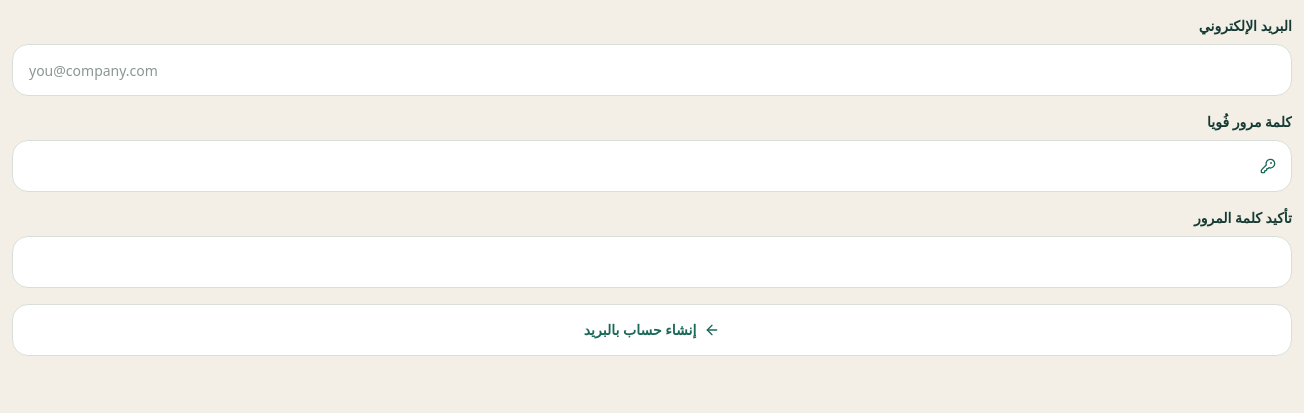
Test: PasswordSignUpForm › shows the confirmation-required state returned by the action
In the field labelled "البريد الإلكتروني": {"x": 652, "y": 70} [12,44,1292,96], type "operator@example.com"
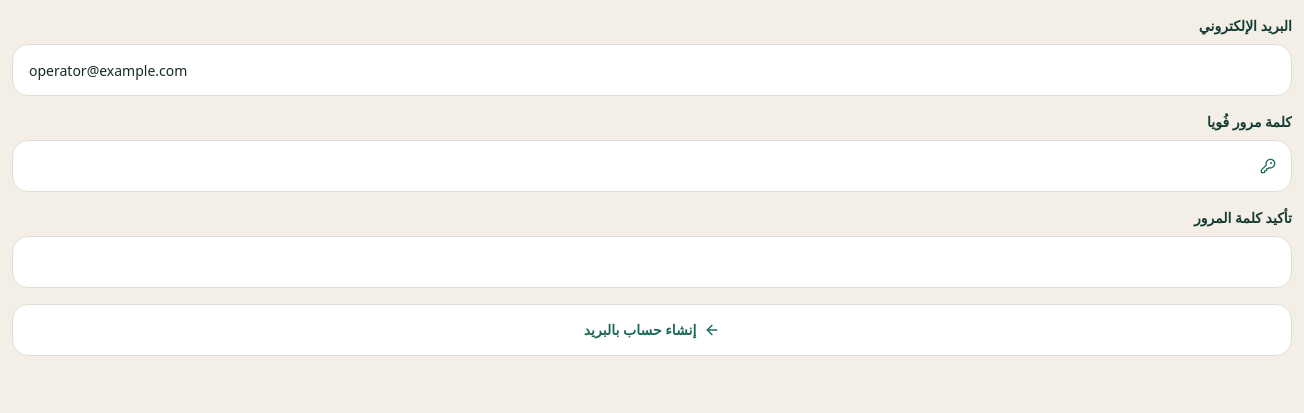
In the password field labelled "كلمة مرور فُويا": {"x": 652, "y": 166} [12,140,1292,192], type "safe-password"
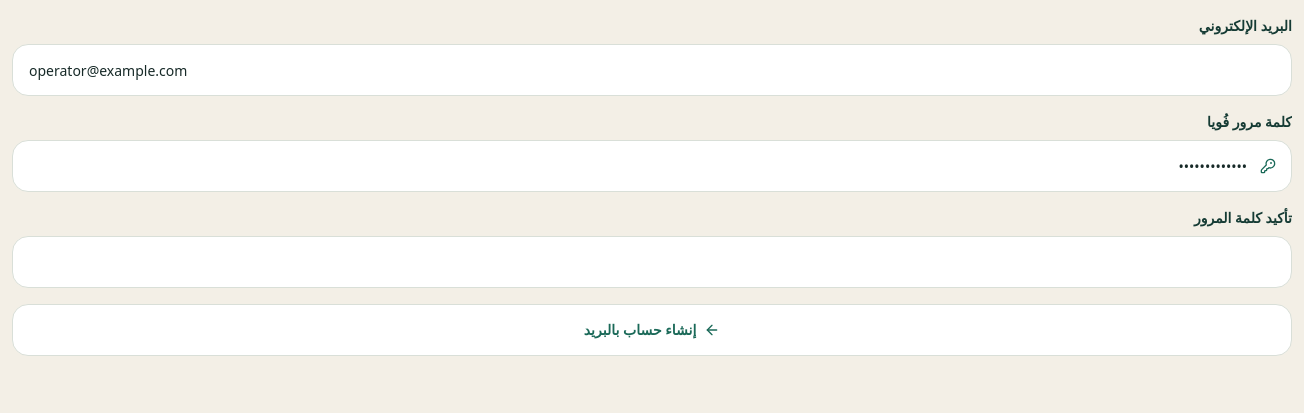
In the password field labelled "تأكيد كلمة المرور": {"x": 652, "y": 262} [12,236,1292,288], type "safe-password"
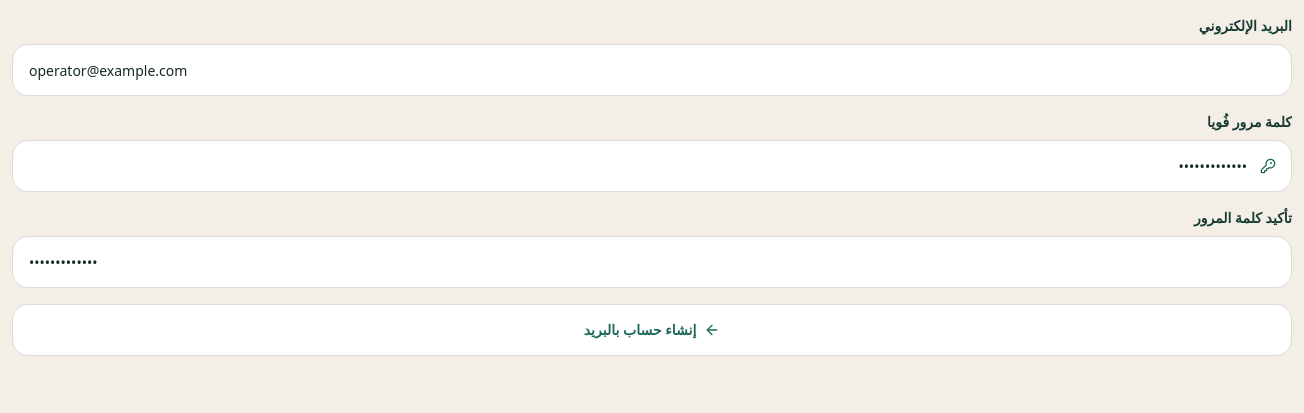
Submit the form "إنشاء حساب بالبريد"
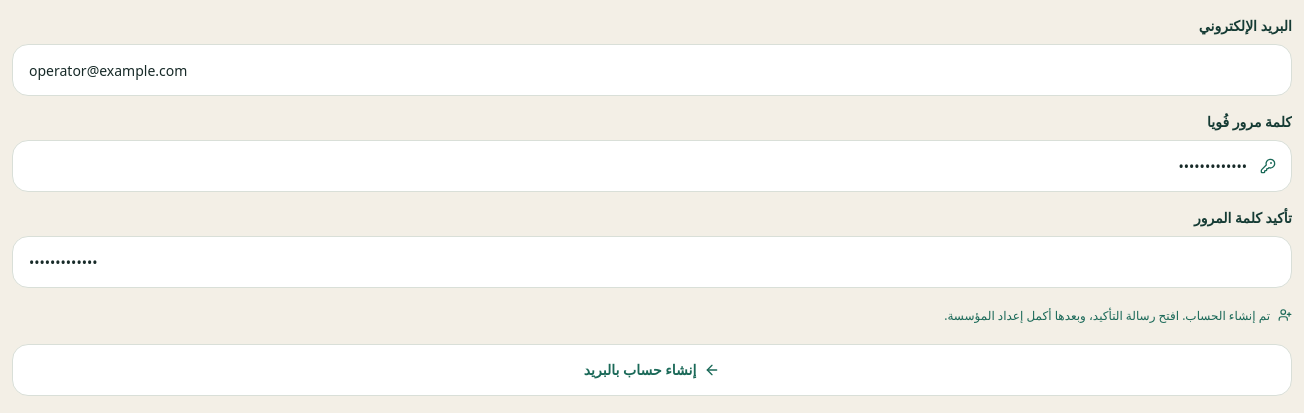
Check: the text "تم إنشاء الحساب. افتح رسالة التأكيد، وبعدها أكمل إعداد المؤسسة." is shown, box [944,307,1292,324]
